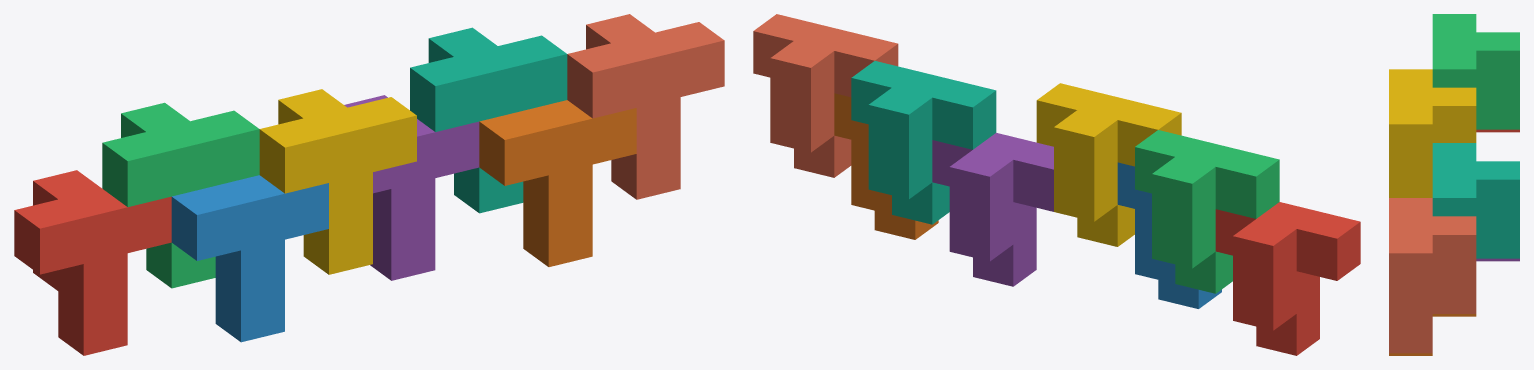
Rendered from tiling.obj.
3 renders of one model, left to right at view 1: azimuth 30°, elevation 25°; view 2: azimuth 150°, elevation 25°; view 3: azimuth 270°, elevation 25°, orthographic. The views are drawn at different scales.
Visible parts, largest first — view 1: copy_1_domain_1, copy_1_domain_8, copy_1_domain_4, copy_1_domain_6, copy_1_domain_2, copy_1_domain_3, copy_1_domain_7, copy_1_domain_5; view 2: copy_1_domain_1, copy_1_domain_7, copy_1_domain_3, copy_1_domain_5, copy_1_domain_8, copy_1_domain_4, copy_1_domain_6, copy_1_domain_2; view 3: copy_1_domain_8, copy_1_domain_4, copy_1_domain_3, copy_1_domain_7, copy_1_domain_6, copy_1_domain_1, copy_1_domain_5.
Part boxes in pixels (x1=…): copy_1_domain_1: x1=14, y1=170, x2=171, y2=355; copy_1_domain_8: x1=567, y1=14, x2=724, y2=199; copy_1_domain_4: x1=259, y1=89, x2=416, y2=274; copy_1_domain_6: x1=479, y1=100, x2=636, y2=266; copy_1_domain_2: x1=171, y1=175, x2=328, y2=342; copy_1_domain_3: x1=102, y1=102, x2=259, y2=288; copy_1_domain_7: x1=410, y1=27, x2=567, y2=213; copy_1_domain_5: x1=344, y1=95, x2=479, y2=280; copy_1_domain_1: x1=1215, y1=202, x2=1360, y2=355; copy_1_domain_7: x1=851, y1=61, x2=996, y2=224; copy_1_domain_3: x1=1135, y1=130, x2=1279, y2=293; copy_1_domain_5: x1=932, y1=132, x2=1053, y2=286; copy_1_domain_8: x1=753, y1=14, x2=898, y2=177; copy_1_domain_4: x1=1036, y1=83, x2=1181, y2=246; copy_1_domain_6: x1=834, y1=93, x2=938, y2=239; copy_1_domain_2: x1=1117, y1=162, x2=1221, y2=308; copy_1_domain_8: x1=1389, y1=198, x2=1476, y2=353; copy_1_domain_4: x1=1389, y1=69, x2=1476, y2=197; copy_1_domain_3: x1=1432, y1=14, x2=1519, y2=129; copy_1_domain_7: x1=1432, y1=143, x2=1519, y2=258; copy_1_domain_6: x1=1389, y1=314, x2=1476, y2=355; copy_1_domain_1: x1=1476, y1=129, x2=1519, y2=132; copy_1_domain_5: x1=1476, y1=258, x2=1519, y2=261.
Bounding box in the file's own units: 15 × 4 × 3.
